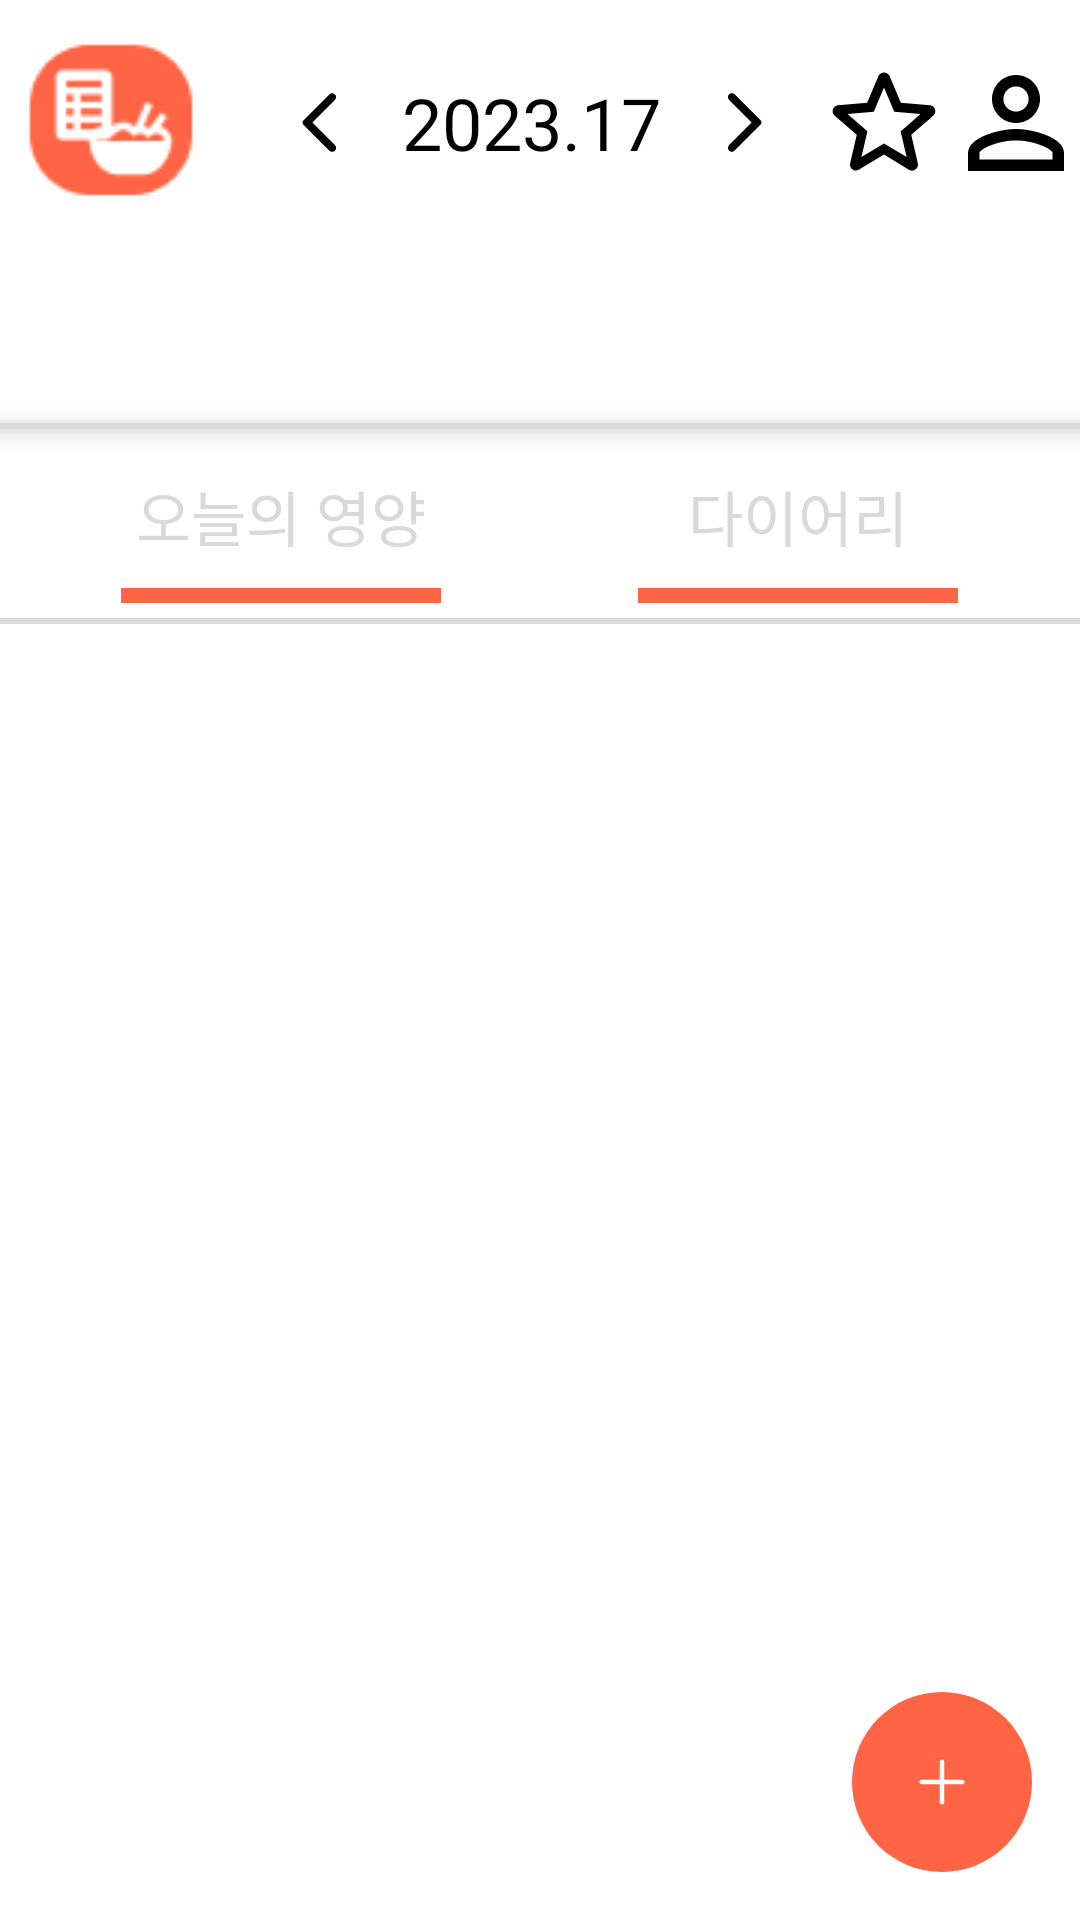

Named icons in this screenshot (1080w x 1920h) and their centers, [x,y]:
add: [942,1782]
app: [111,120]
empty star: [884,121]
left: [319,122]
profile: [1016,123]
right: [745,122]
